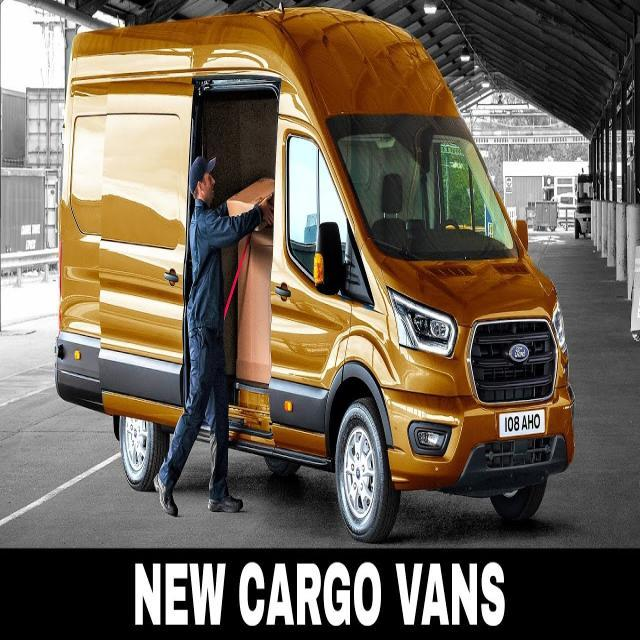truck: (52, 5, 576, 542)
